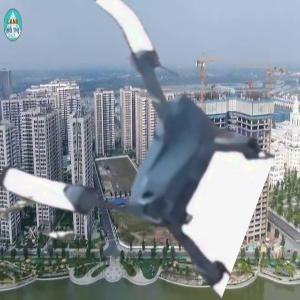drone: (12, 1, 277, 266)
